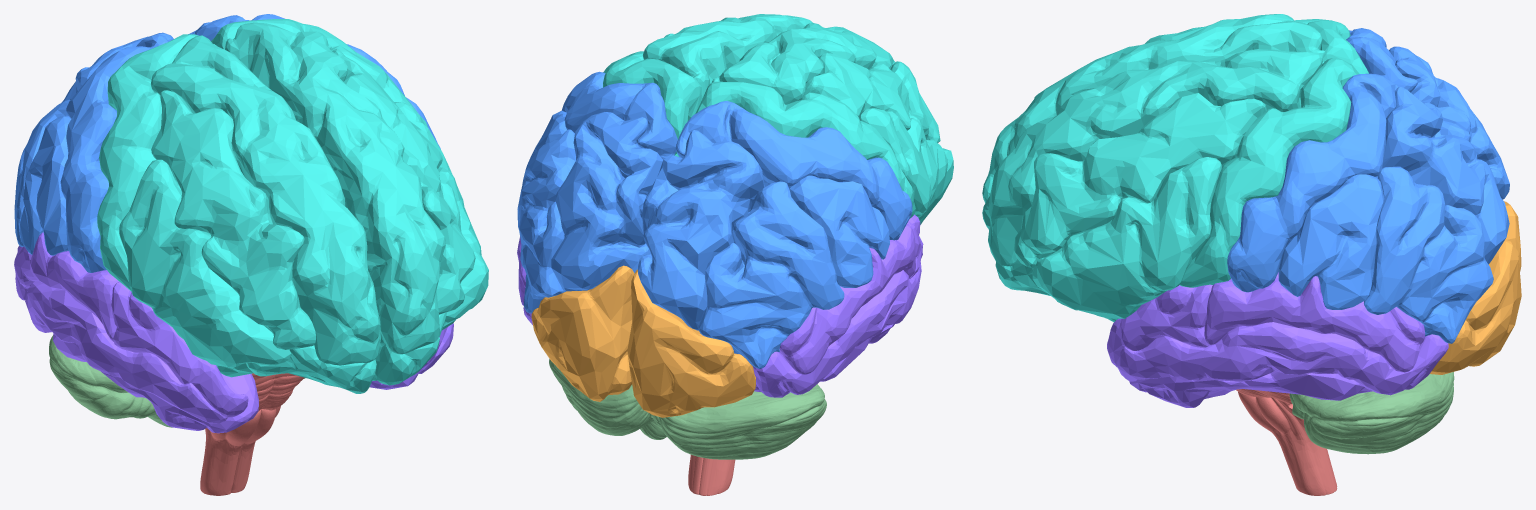
The model's file is bodyparts3d-atlas.glb.
3 renders of one model, left to right at view 1: azimuth 30°, elevation 25°; view 2: azimuth 150°, elevation 25°; view 3: azimuth 270°, elevation 25°, orthographic. The views are drawn at different scales.
Visible parts, largest first — view 1: grp1 (×23); view 2: grp1 (×23); view 3: grp1 (×20).
Boxes of the visible parts, bbox=[...] form: grp1 (×23): bbox=[14, 14, 488, 495]; grp1 (×23): bbox=[517, 14, 953, 495]; grp1 (×20): bbox=[982, 14, 1521, 495].
Bounding box in the file's own units: 2.5 × 2.95 × 3.2.
